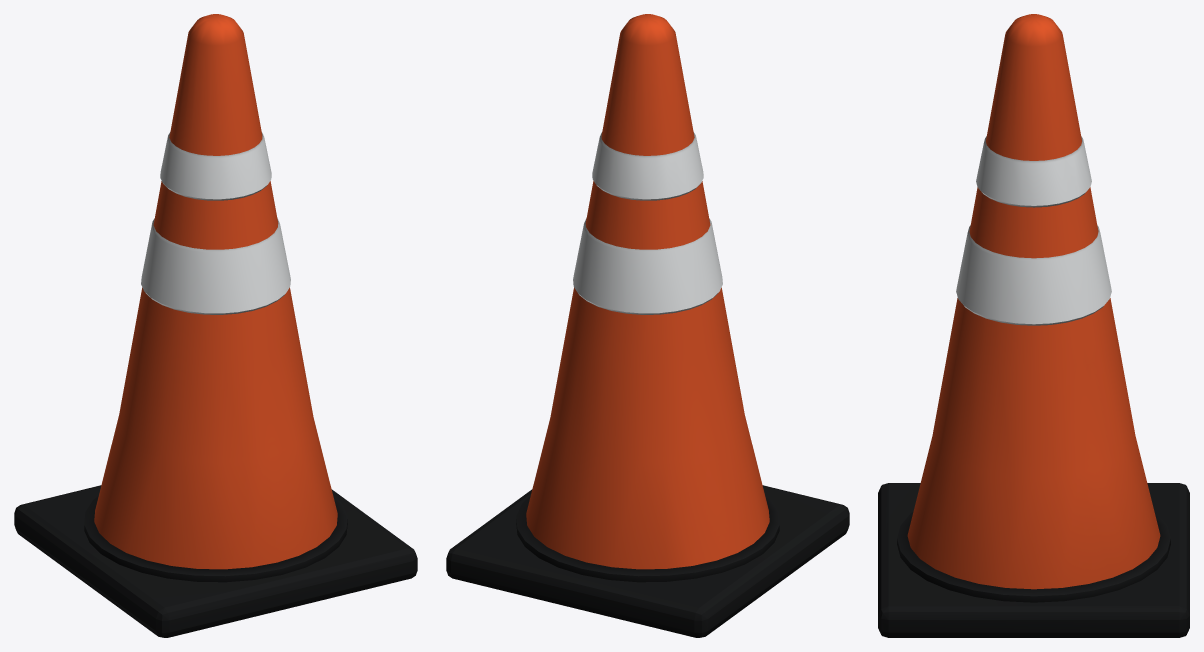
The picture shows the model from 3 angles, left to right: view 1: azimuth 30°, elevation 25°; view 2: azimuth 150°, elevation 25°; view 3: azimuth 270°, elevation 25°; orthographic projection. The views are drawn at different scales.
Parts seen in each view (by area): view 1: LOD0; view 2: LOD0; view 3: LOD0.
Part boxes in pixels (left/top/right/bottom): LOD0: left=14, top=14, right=417, bottom=637; LOD0: left=446, top=14, right=849, bottom=637; LOD0: left=878, top=14, right=1189, bottom=637.
Size of what is drawn, in the model's own units: 0.36 by 0.71 by 0.36.
